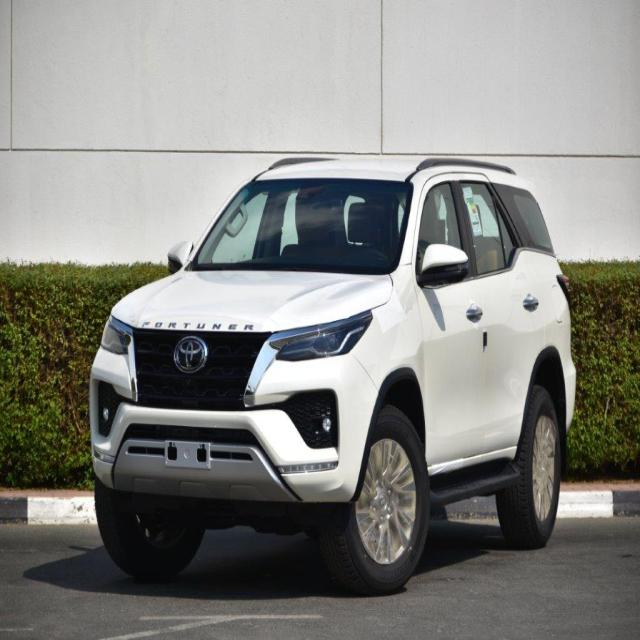light_vehicle: (88, 154, 578, 594)
